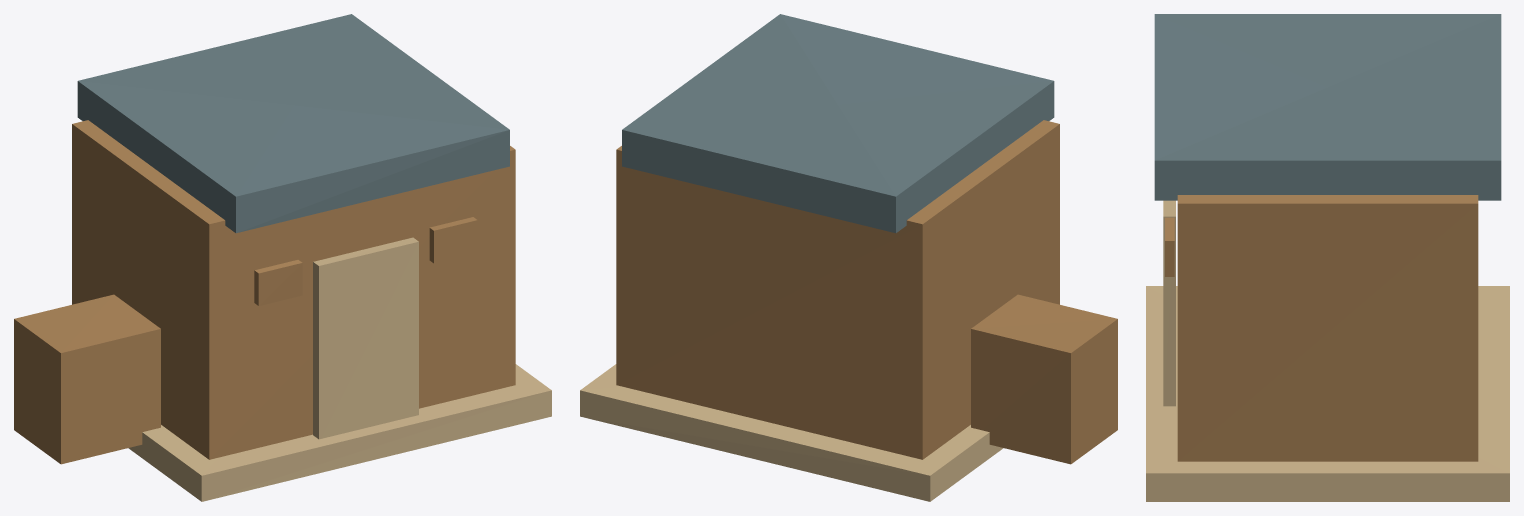
The model's file is Electrical-Shed.glb.
The picture shows the model from 3 angles, left to right: view 1: azimuth 30°, elevation 25°; view 2: azimuth 150°, elevation 25°; view 3: azimuth 270°, elevation 25°; orthographic projection. The views are drawn at different scales.
Visible parts, largest first — view 1: electrical-shed-static-shed-teal, electrical-shed-static-shed-iron, electrical-shed-static-shed-galv, electrical-shed-static-shed-cream, electrical-shed-static-shed-concrete; view 2: electrical-shed-static-shed-teal, electrical-shed-static-shed-iron, electrical-shed-static-shed-galv, electrical-shed-static-shed-concrete; view 3: electrical-shed-static-shed-teal, electrical-shed-static-shed-iron, electrical-shed-static-shed-concrete, electrical-shed-static-shed-cream, electrical-shed-static-shed-galv.
Boxes of the visible parts, x1=… form: electrical-shed-static-shed-teal: x1=72, y1=120, x2=515, y2=459; electrical-shed-static-shed-iron: x1=77, y1=14, x2=509, y2=233; electrical-shed-static-shed-galv: x1=14, y1=217, x2=477, y2=464; electrical-shed-static-shed-cream: x1=313, y1=237, x2=418, y2=439; electrical-shed-static-shed-concrete: x1=128, y1=364, x2=551, y2=501; electrical-shed-static-shed-teal: x1=616, y1=120, x2=1059, y2=459; electrical-shed-static-shed-iron: x1=622, y1=14, x2=1054, y2=233; electrical-shed-static-shed-galv: x1=971, y1=294, x2=1117, y2=464; electrical-shed-static-shed-concrete: x1=580, y1=364, x2=1003, y2=501; electrical-shed-static-shed-teal: x1=1177, y1=195, x2=1478, y2=461; electrical-shed-static-shed-iron: x1=1154, y1=14, x2=1501, y2=200; electrical-shed-static-shed-concrete: x1=1146, y1=286, x2=1509, y2=501; electrical-shed-static-shed-cream: x1=1163, y1=200, x2=1175, y2=406; electrical-shed-static-shed-galv: x1=1165, y1=217, x2=1174, y2=276.
Size of the model in its own units: 3.45 by 2.24 by 2.3.
